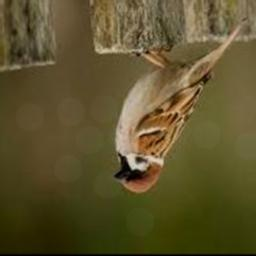Sparrow: (113, 17, 246, 193)
